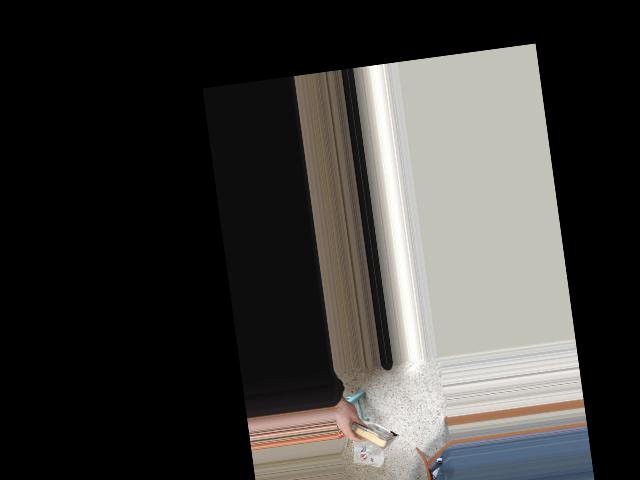cheese: (338, 411, 400, 455)
